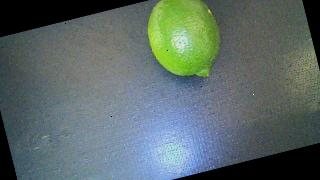EXPORTACION: (139, 0, 228, 87)
